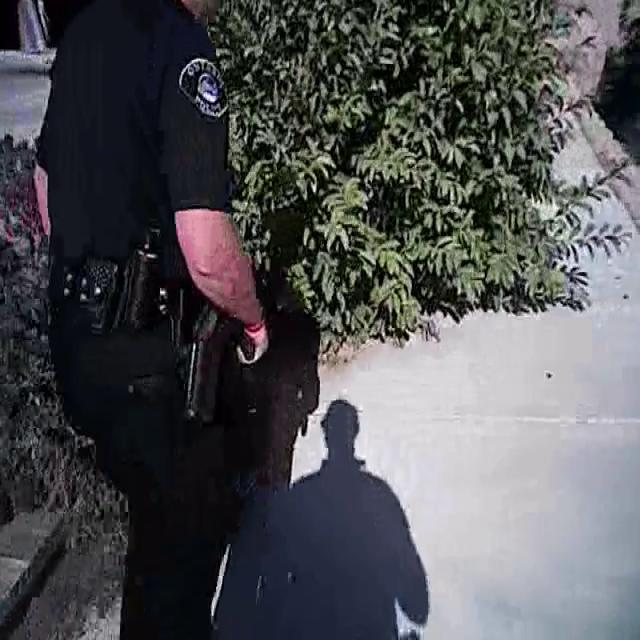gun: (165, 271, 247, 433)
